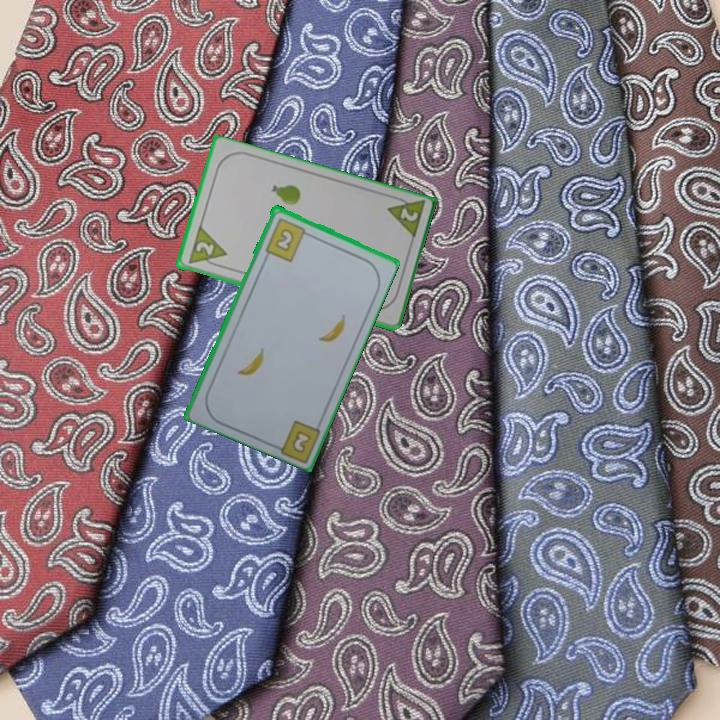2b: (261, 214, 313, 264), (290, 426, 314, 454)
2p: (184, 224, 229, 271), (396, 204, 421, 225)
